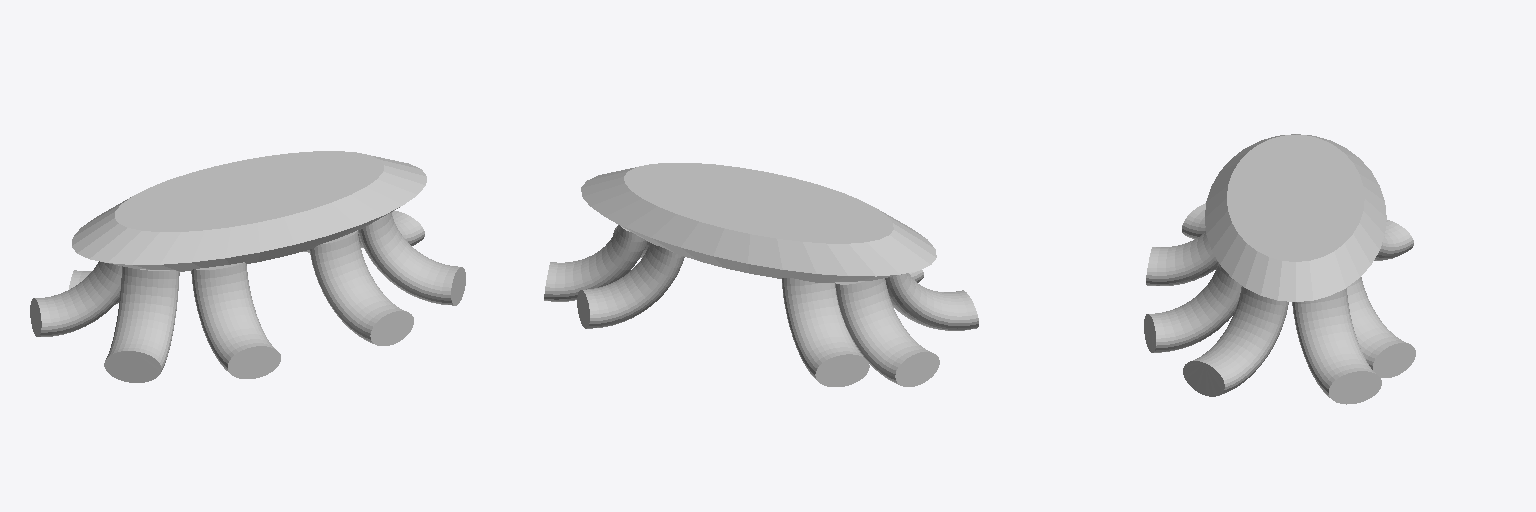
File: bottom tentacle.obj
3 renders of one model, left to right at view 1: azimuth 30°, elevation 25°; view 2: azimuth 150°, elevation 25°; view 3: azimuth 270°, elevation 25°, orthographic.
Parts seen in each view (by area): view 1: 실린더, 실린더.007, 실린더.006, 실린더.005, 실린더.004, 실린더.008, 실린더.003; view 2: 실린더, 실린더.008, 실린더.009, 실린더.001, 실린더.003, 실린더.007; view 3: 실린더, 실린더.003, 실린더.004, 실린더.005, 실린더.001, 실린더.006, 실린더.009, 실린더.007.
Boxes of the visible parts, x1=… form: 실린더: x1=72, y1=151, x2=426, y2=271; 실린더.007: x1=104, y1=266, x2=179, y2=382; 실린더.006: x1=191, y1=262, x2=280, y2=378; 실린더.005: x1=310, y1=230, x2=413, y2=345; 실린더.004: x1=358, y1=212, x2=465, y2=305; 실린더.008: x1=30, y1=261, x2=121, y2=336; 실린더.003: x1=358, y1=210, x2=424, y2=247; 실린더: x1=581, y1=163, x2=936, y2=282; 실린더.008: x1=835, y1=278, x2=939, y2=386; 실린더.009: x1=782, y1=278, x2=869, y2=386; 실린더.001: x1=577, y1=243, x2=684, y2=328; 실린더.003: x1=544, y1=225, x2=647, y2=301; 실린더.007: x1=885, y1=273, x2=978, y2=330; 실린더: x1=1205, y1=134, x2=1386, y2=301; 실린더.003: x1=1292, y1=288, x2=1381, y2=404; 실린더.004: x1=1183, y1=286, x2=1288, y2=396; 실린더.005: x1=1144, y1=262, x2=1241, y2=352; 실린더.001: x1=1347, y1=277, x2=1415, y2=377; 실린더.006: x1=1146, y1=232, x2=1217, y2=285; 실린더.009: x1=1374, y1=220, x2=1413, y2=260; 실린더.007: x1=1182, y1=203, x2=1205, y2=239.
Size of the model in its own units: 0.1835 by 0.0529 by 0.1118.